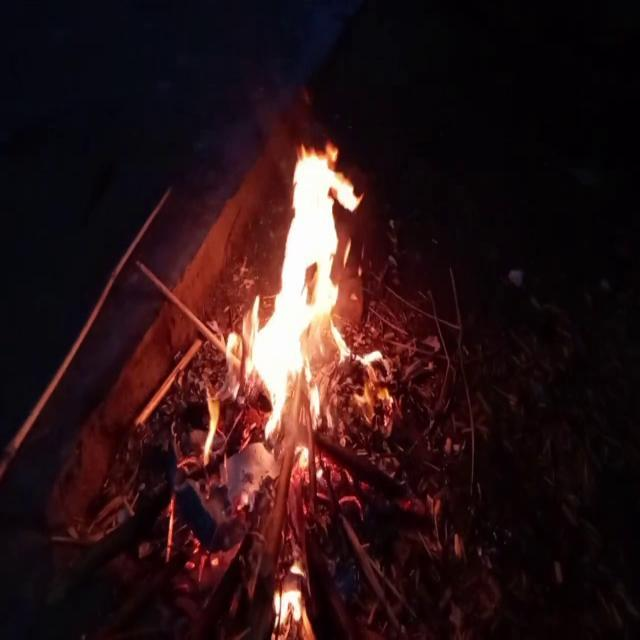Fire: (197, 121, 394, 484), (264, 553, 314, 640)
